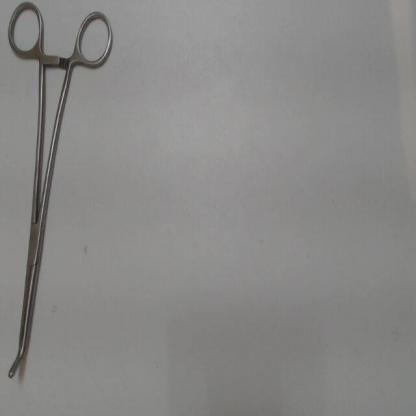Lahey Forceps: (3, 2, 120, 388)
